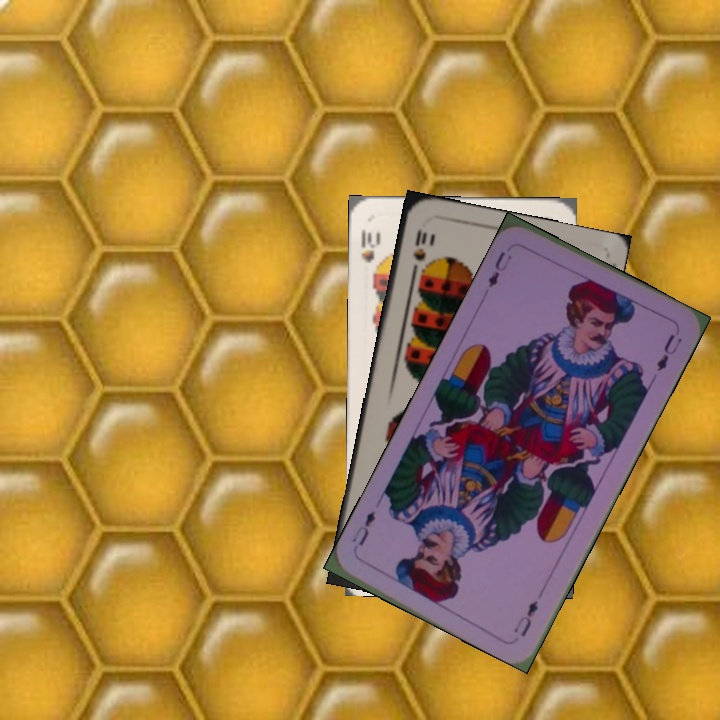EU: (483, 247, 515, 291), (510, 596, 541, 639)
S10: (357, 225, 382, 280), (407, 225, 430, 278)
